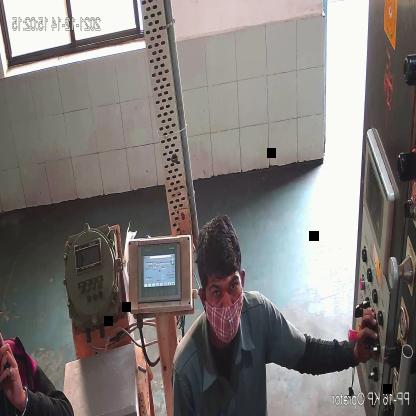no_goggles: (208, 270, 242, 304)
